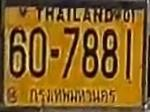0: (28, 26, 46, 76)
1: (122, 27, 138, 82)
6: (9, 26, 26, 76)
7: (62, 26, 78, 78)
8: (81, 28, 97, 77), (101, 28, 117, 77)
BKK: (27, 86, 119, 107)
